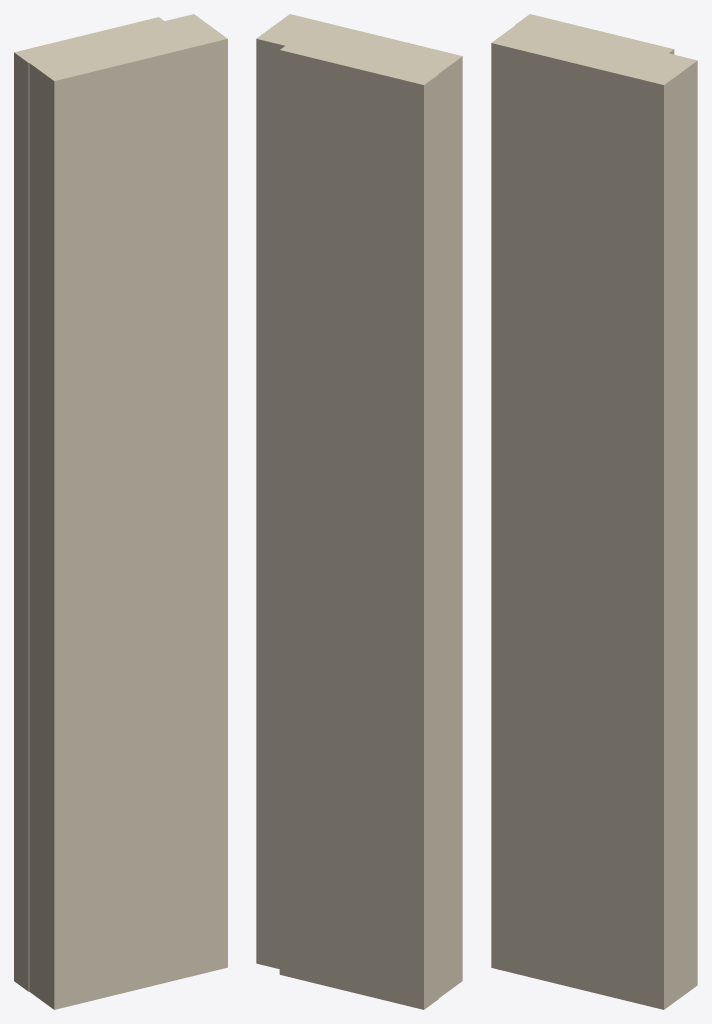
3 views of the same model, side by side, from view 1: azimuth 30°, elevation 25°; view 2: azimuth 150°, elevation 25°; view 3: azimuth 330°, elevation 25° (orthographic).
Parts seen in each view (by area): view 1: A-GF-WALL-007; view 2: A-GF-WALL-007; view 3: A-GF-WALL-007.
Boxes of the visible parts, bbox=[...] form: A-GF-WALL-007: bbox=[14, 14, 227, 1009]; A-GF-WALL-007: bbox=[256, 14, 462, 1009]; A-GF-WALL-007: bbox=[491, 14, 697, 1009].
Size of the model in its own units: 0.534 by 2.72 by 0.21.
